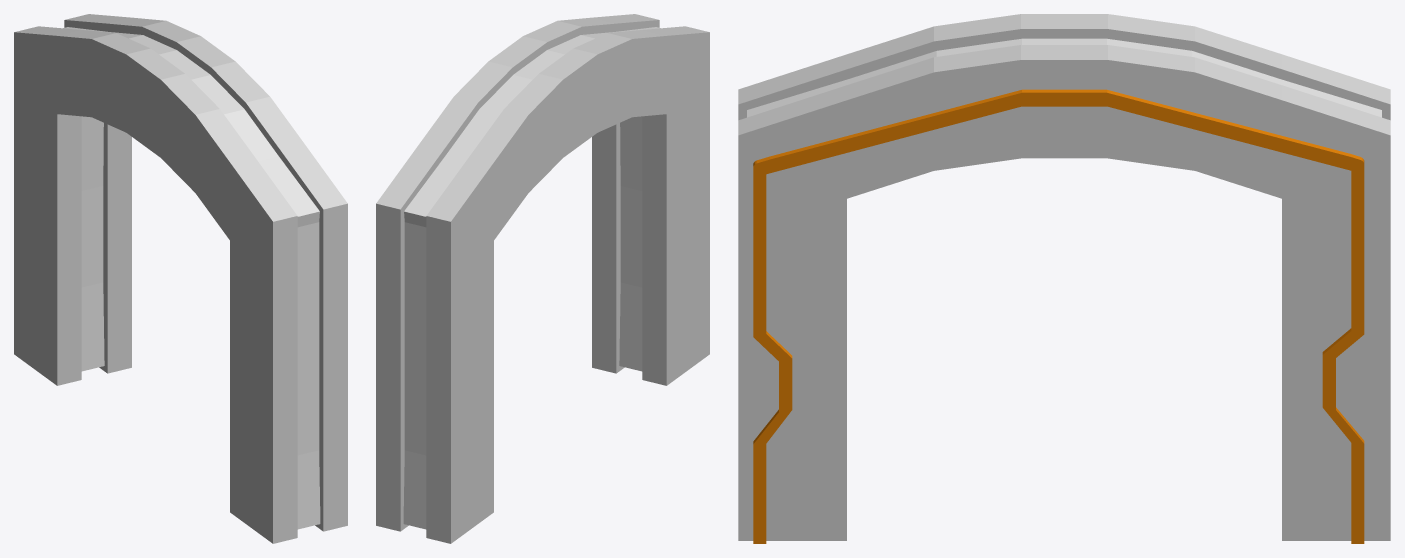
The model's file is Gate.fbx.
3 views of the same model, side by side, from view 1: azimuth 30°, elevation 25°; view 2: azimuth 150°, elevation 25°; view 3: azimuth 270°, elevation 25° (orthographic). The views are drawn at different scales.
Parts seen in each view (by area): view 1: Cube.007; view 2: Cube.007; view 3: Cube.007.
Boxes of the visible parts, x1,y1,x2,y2 form: Cube.007: (14,14,347,543); Cube.007: (376,14,709,543); Cube.007: (738,14,1390,543).
Bounding box in the file's own units: 213 × 976 × 1200.
